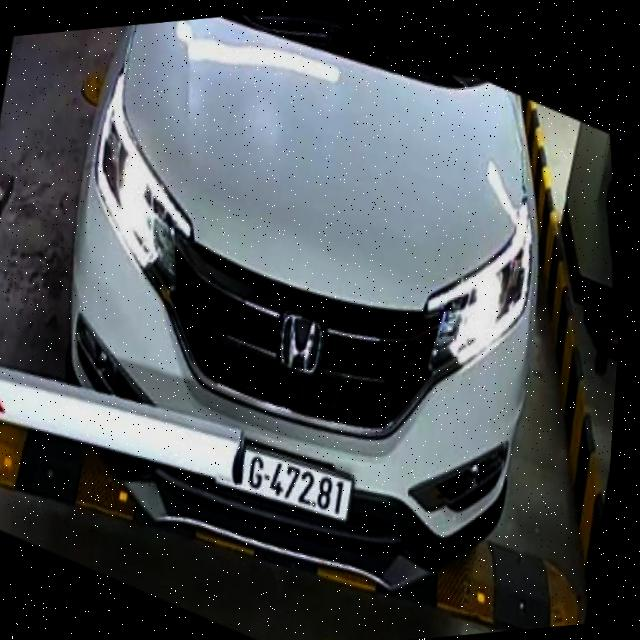car: (10, 2, 595, 638)
plate: (199, 417, 364, 543)
